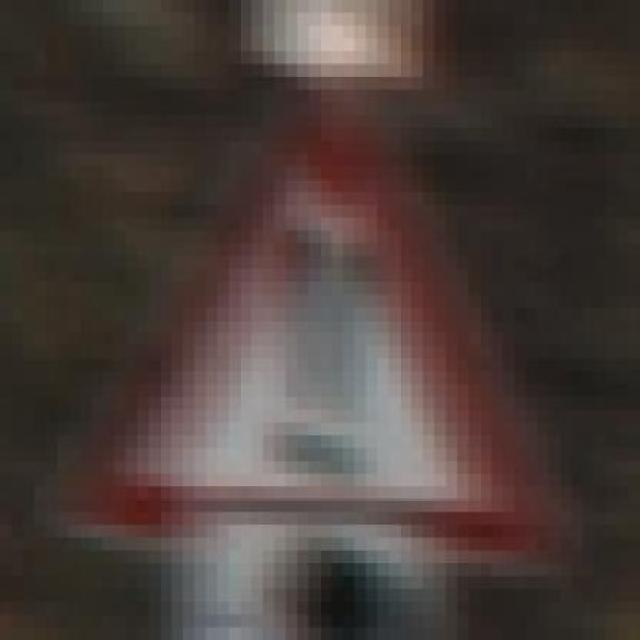Attention Please-: (34, 90, 572, 576)
